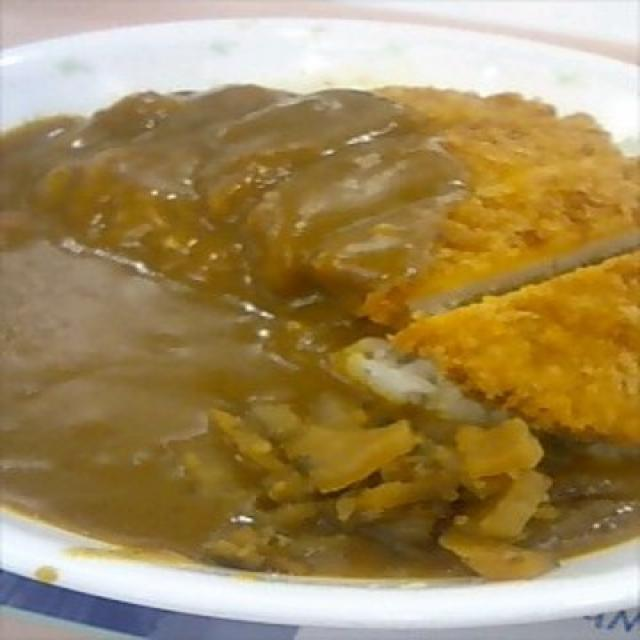猪肉菜式: (0, 9, 636, 629)
